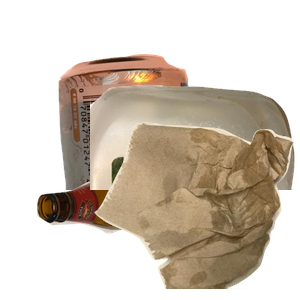glass: (34, 170, 223, 300)
metal: (56, 52, 242, 232)
plastic: (90, 82, 300, 262)
trash: (92, 120, 300, 300)
